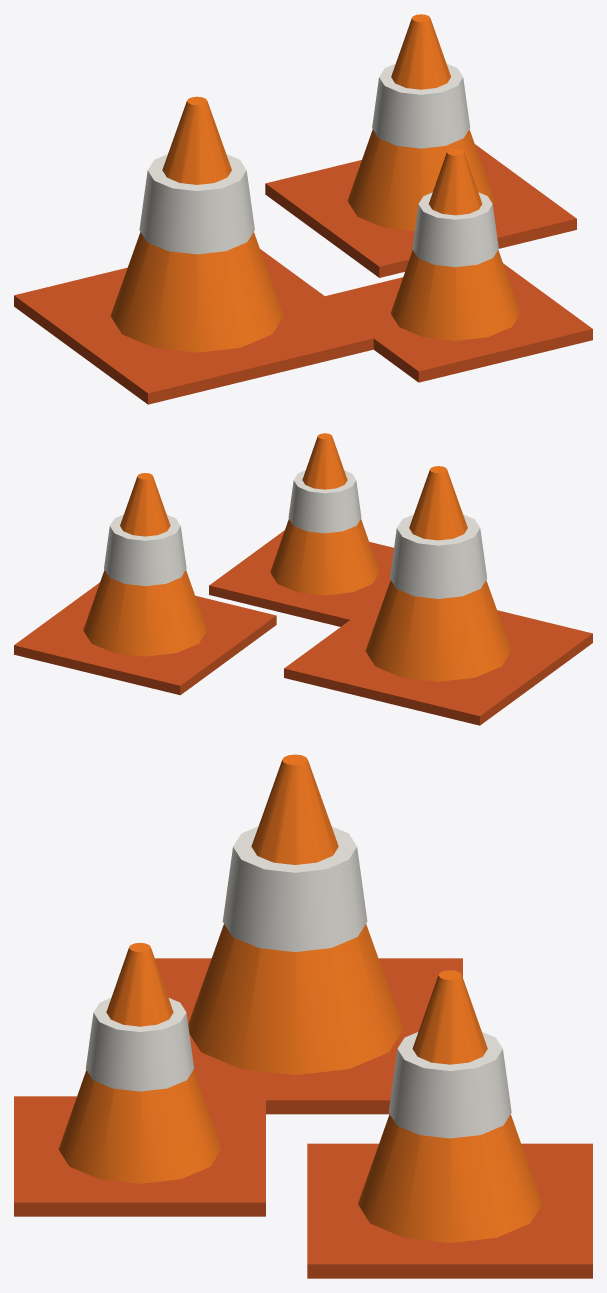
Rendered from cone-cluster.glb.
3 renders of one model, top to bottom at view 1: azimuth 30°, elevation 25°; view 2: azimuth 150°, elevation 25°; view 3: azimuth 270°, elevation 25°, orthographic. The views are drawn at different scales.
Parts seen in each view (by area): view 1: cone-cluster; view 2: cone-cluster; view 3: cone-cluster.
Boxes of the visible parts, left/top/right/bottom form: cone-cluster: left=14, top=14, right=592, bottom=404; cone-cluster: left=14, top=433, right=592, bottom=725; cone-cluster: left=14, top=754, right=592, bottom=1278.
Bounding box in the file's own units: 2.8 × 1.21 × 2.24.
